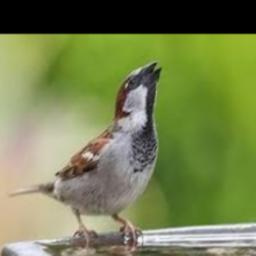Sparrow: (8, 61, 161, 247)
